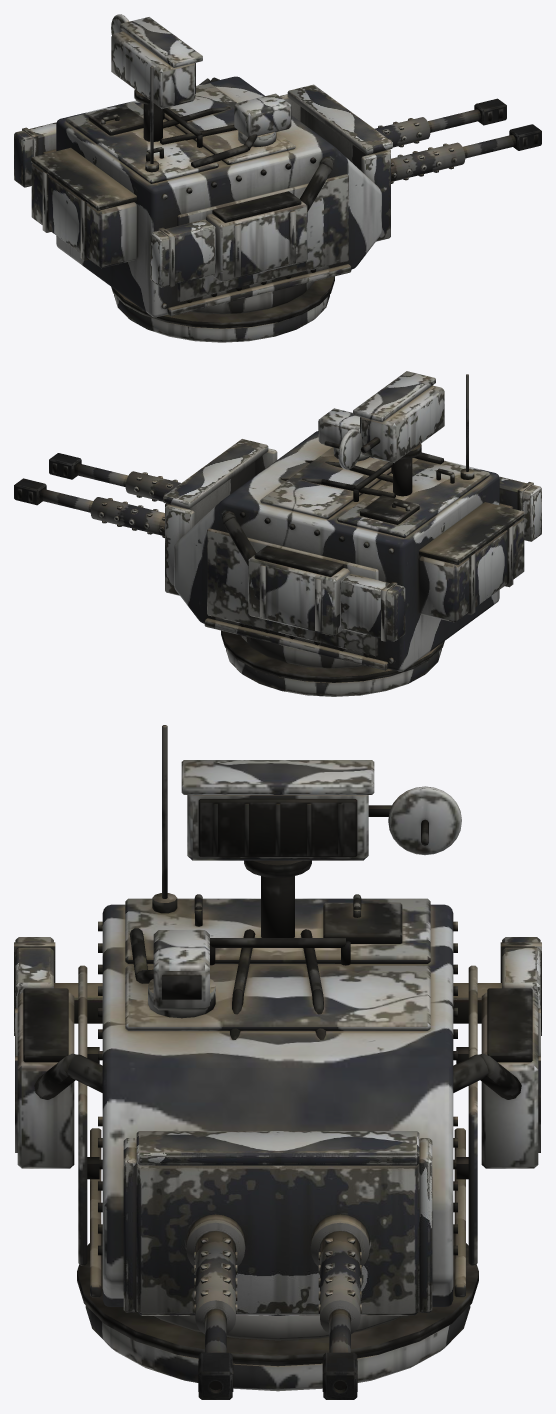
Rendered from turret_grach_evo_arctic_tiger.glb.
3 views of the same model, one above another, from view 1: azimuth 30°, elevation 25°; view 2: azimuth 150°, elevation 25°; view 3: azimuth 270°, elevation 25° (orthographic). The views are drawn at different scales.
Parts seen in each view (by area): view 1: turret_light_evo, guns, pods; view 2: turret_light_evo, guns, pods; view 3: turret_light_evo, guns, pods.
Boxes of the visible parts, x1,y1,x2,y2 form: turret_light_evo: (31, 14, 381, 342); guns: (280, 84, 541, 241); pods: (14, 122, 215, 287); turret_light_evo: (174, 371, 524, 696); guns: (14, 439, 277, 595); pods: (340, 476, 541, 641); turret_light_evo: (15, 725, 540, 1391); guns: (123, 1131, 432, 1399); pods: (14, 937, 541, 1035).
Bounding box in the file's own units: 1.86 × 1.09 × 1.05.
3 materials, 3 textured.
